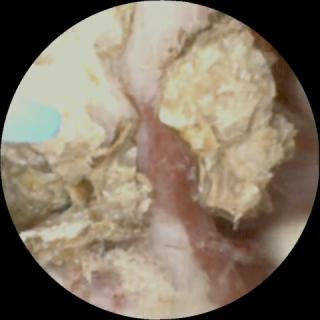fiber: (4, 97, 59, 141)
stone: (4, 6, 152, 264), (158, 16, 299, 229)
